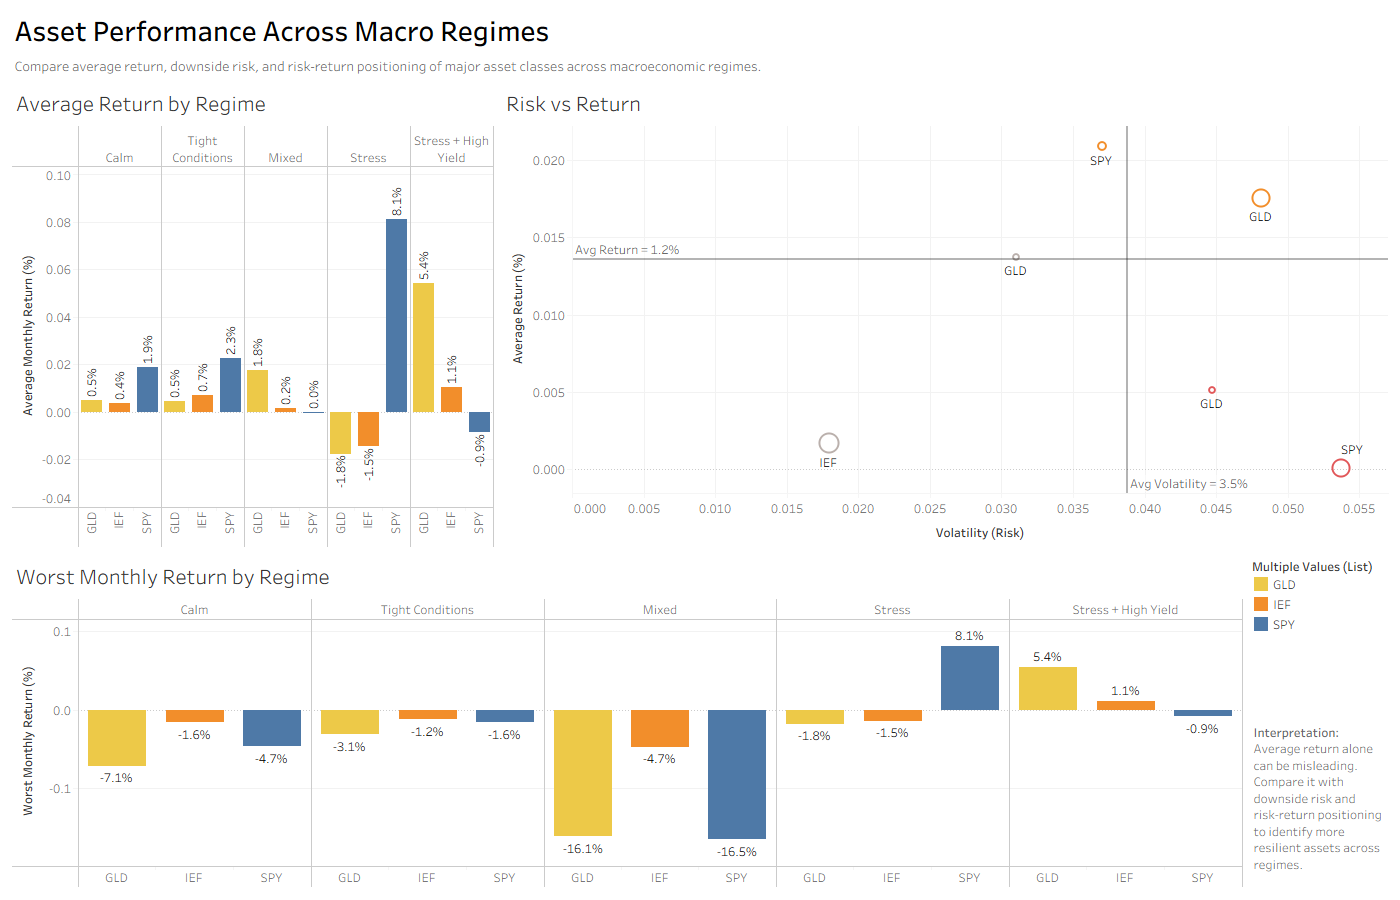

Layout of this report page (visuals, bound fields, positions):
{"tool":"tableau","page":{"name":"Regime Performance Dashboard","canvas":[1400,900],"ordinal":1},"visuals":[{"type":"text","box":[8,8,1384,45]},{"type":"text","box":[8,53,1384,26]},{"type":"worksheet","title":"Asset Performance by Regime","mark":"Bar","rows":["avg_return"],"cols":["macro_regime_label","ticker"],"box":[8,79,490,473]},{"type":"worksheet","title":"Risk vs Return","mark":"Automatic","rows":["avg_return"],"cols":["volatility"],"box":[498,79,894,473]},{"type":"worksheet","title":"Worst Case by Regime","mark":"Bar","rows":["worst_return"],"cols":["macro_regime_label","ticker"],"box":[8,552,1239,340]},{"type":"legend","title":"Asset Performance by Regime","param":"[federated.0quq1d31iqd37f16axsjq044dgca].[none:ticker:nk]","box":[1247,552,145,156]},{"type":"text","box":[1247,708,145,184]}]}

Visuals, with their boxes in screenshot pixels (x1, y1, x2, y2), scaled from the page's 1400x900 canvas onto the 1400x900 screenshot:
text: pyautogui.locateOnScreen(8, 8, 1392, 53)
text: pyautogui.locateOnScreen(8, 53, 1392, 79)
"Asset Performance by Regime" worksheet (Bar marks): pyautogui.locateOnScreen(8, 79, 498, 552)
"Risk vs Return" worksheet: pyautogui.locateOnScreen(498, 79, 1392, 552)
"Worst Case by Regime" worksheet (Bar marks): pyautogui.locateOnScreen(8, 552, 1247, 892)
"Asset Performance by Regime" legend: pyautogui.locateOnScreen(1247, 552, 1392, 708)
text: pyautogui.locateOnScreen(1247, 708, 1392, 892)
